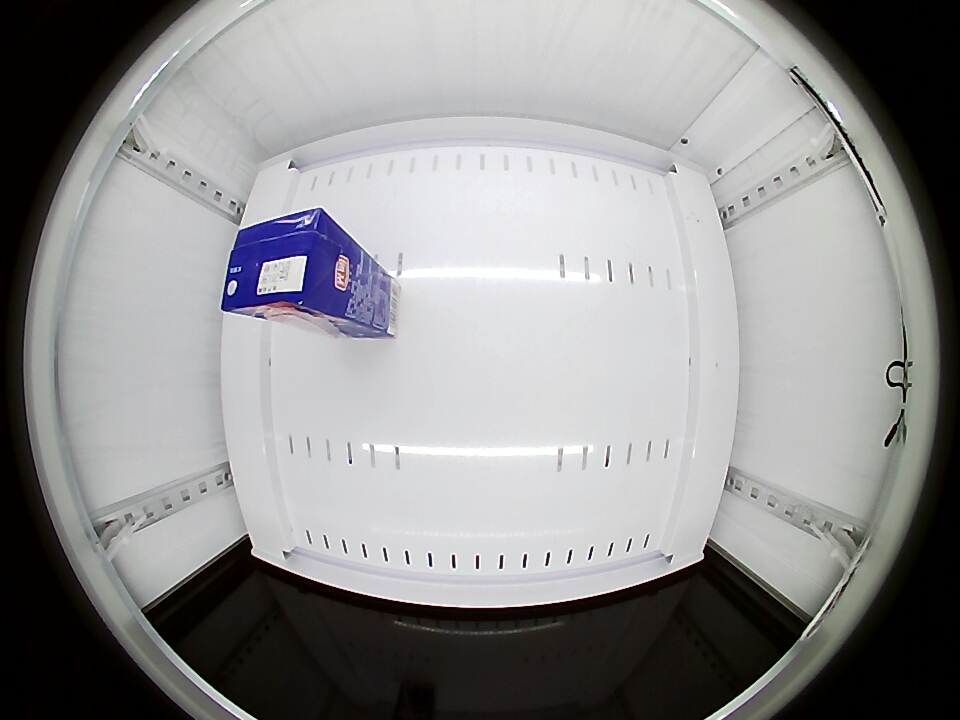bingqilinniunai: (221, 207, 350, 321)
